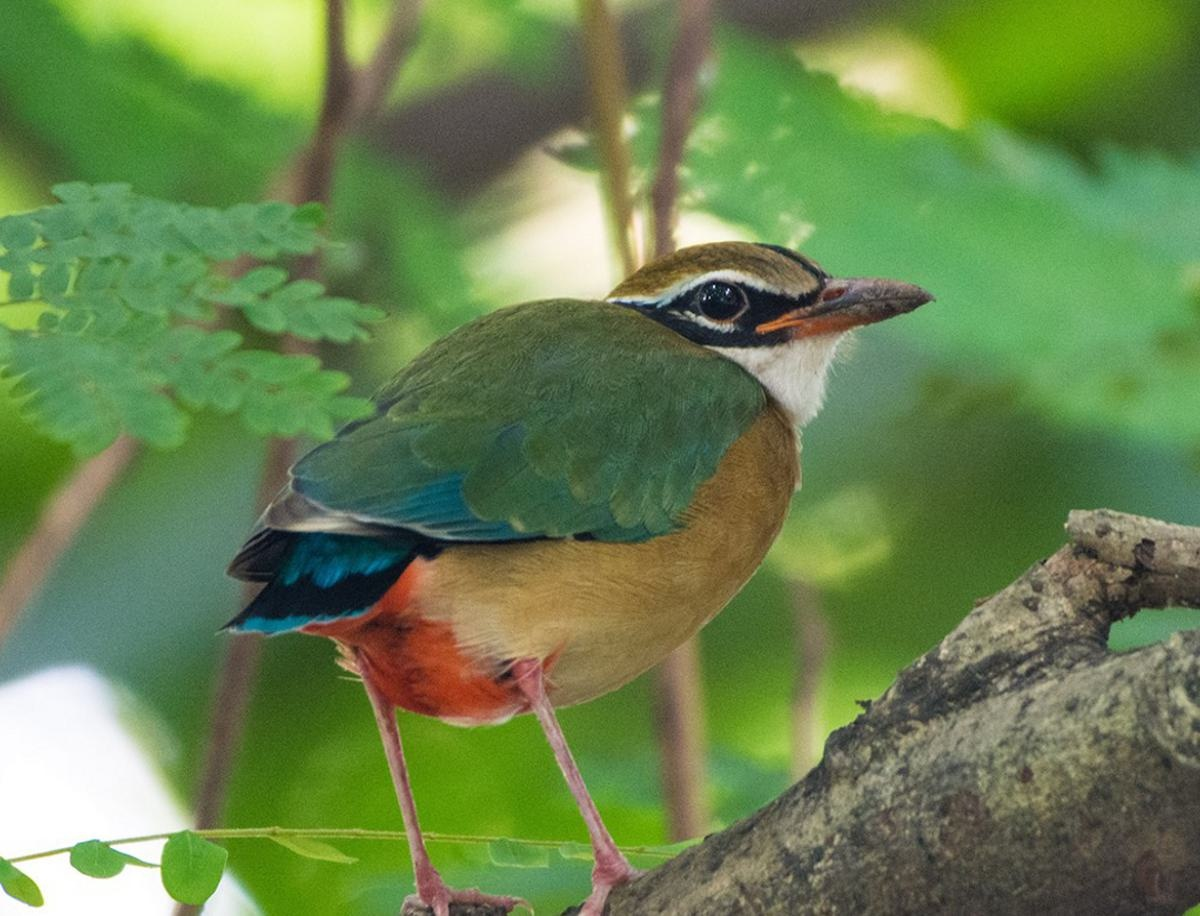pitta: (254, 220, 963, 900)
